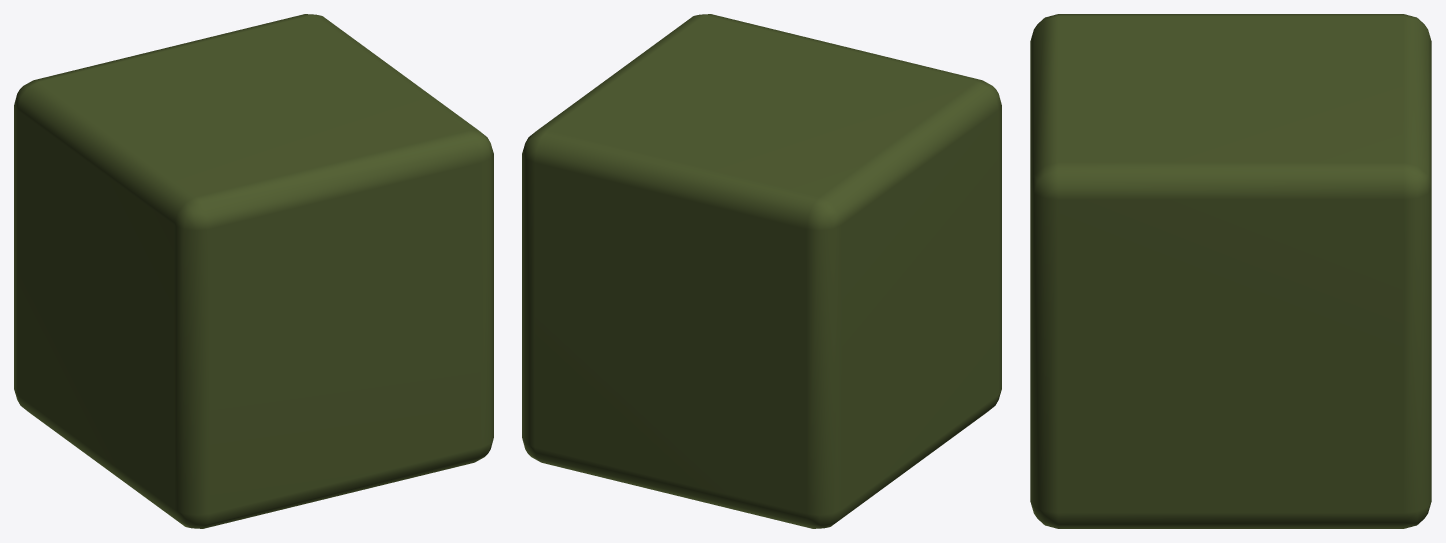
The model's file is SM_Voxel.glb.
3 renders of one model, left to right at view 1: azimuth 30°, elevation 25°; view 2: azimuth 150°, elevation 25°; view 3: azimuth 270°, elevation 25°, orthographic. The views are drawn at different scales.
Visible parts, largest first — view 1: SM_Voxel; view 2: SM_Voxel; view 3: SM_Voxel.
Boxes of the visible parts, <box> form: SM_Voxel: <box>14,14,493,528</box>; SM_Voxel: <box>522,14,1001,528</box>; SM_Voxel: <box>1030,14,1431,528</box>.
Bounding box in the file's own units: 1 × 1 × 1.
